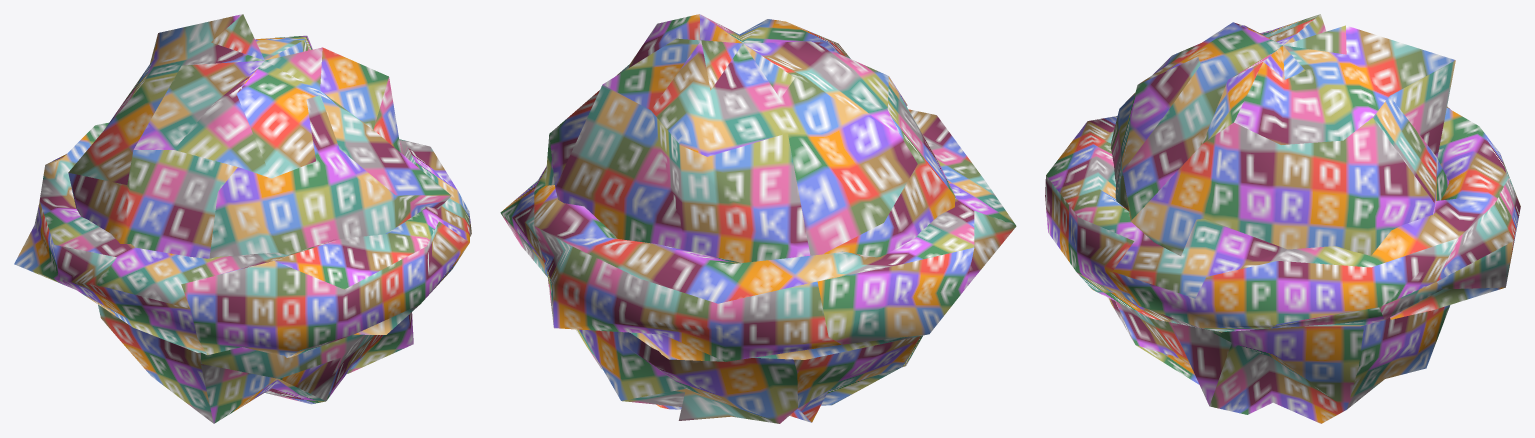
File: Rock_2.obj
The picture shows the model from 3 angles, left to right: view 1: azimuth 30°, elevation 25°; view 2: azimuth 150°, elevation 25°; view 3: azimuth 270°, elevation 25°; orthographic projection. The views are drawn at different scales.
Parts seen in each view (by area): view 1: sphere4, Torus3; view 2: sphere4, Torus3; view 3: sphere4, Torus3.
Part boxes in pixels (x1,y1,x2,y2): sphere4: (68,14,451,423); Torus3: (14,122,471,357); sphere4: (545,14,955,423); Torus3: (500,109,1016,361); sphere4: (1107,14,1455,423); Torus3: (1045,106,1520,332).
Bounding box in the file's own units: 2.54 × 2.15 × 2.48.
2 materials, 2 textured.
